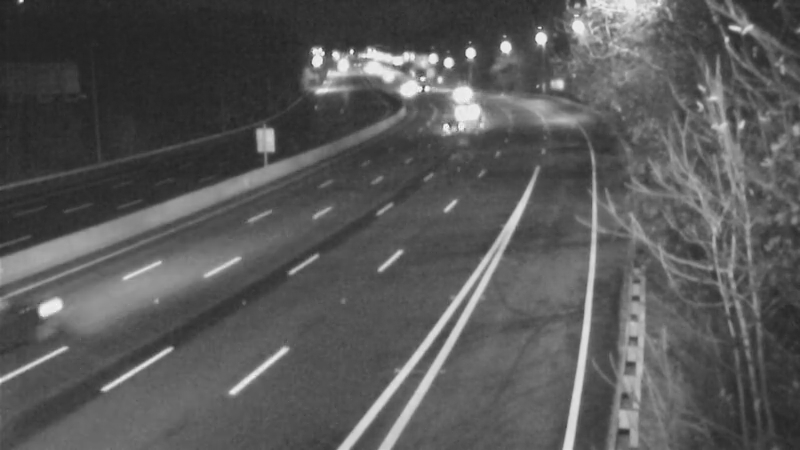vehicle: (401, 64, 451, 114), (380, 68, 430, 118), (436, 68, 486, 118), (443, 87, 493, 137), (423, 105, 473, 155)
